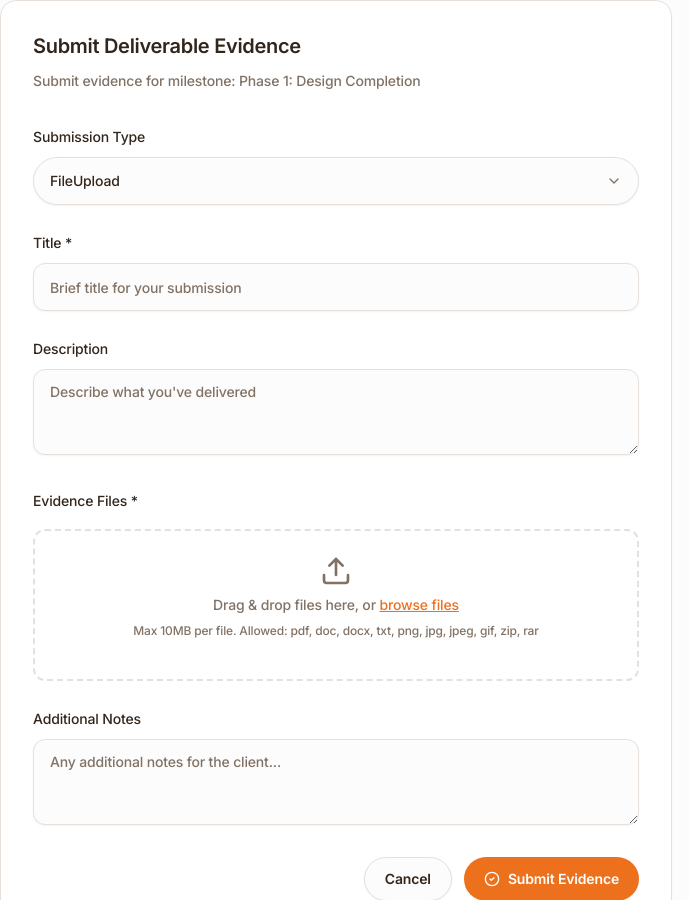
it: EvidenceUpload › Submission Type Changes › should change to Text submission type
Click the dropdown at [85, 180], box [33,157,639,205]
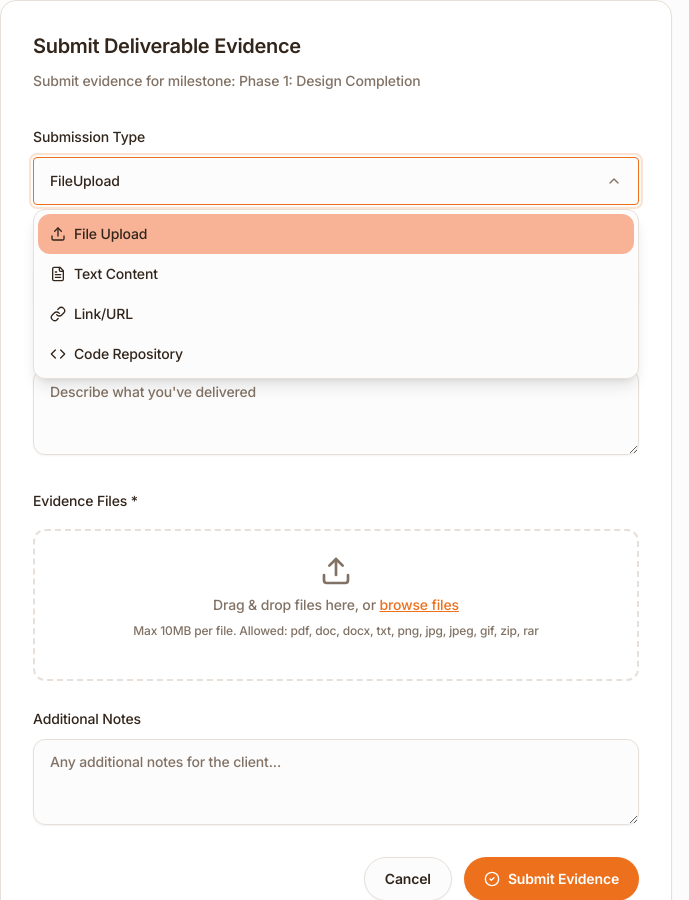
Click the option "Text Content" at [104, 274], box [50,265,158,282]
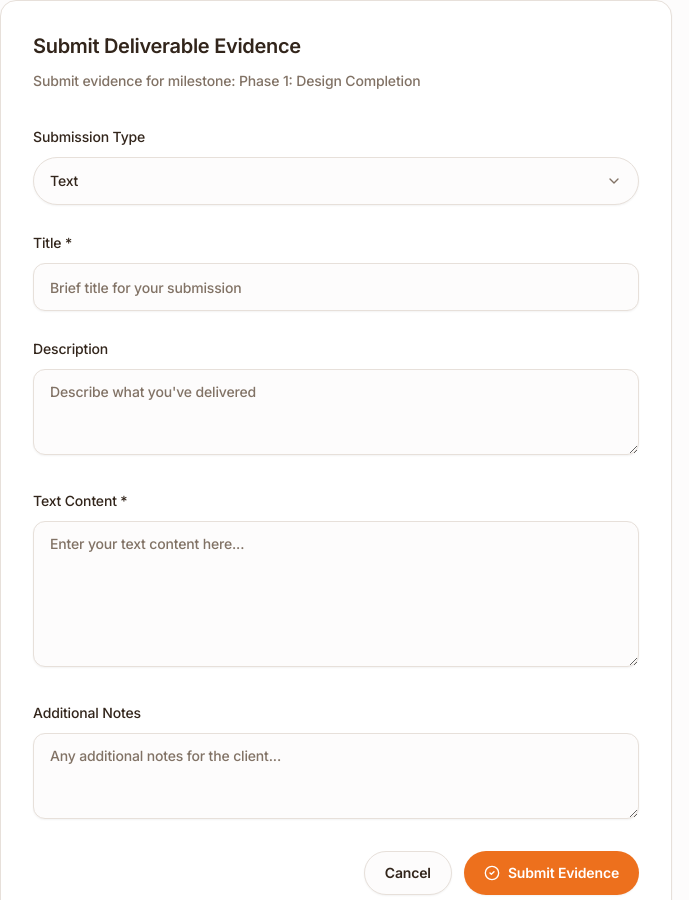
Expected: the text box labelled "Text Content *" is shown, [33,521,639,667]
